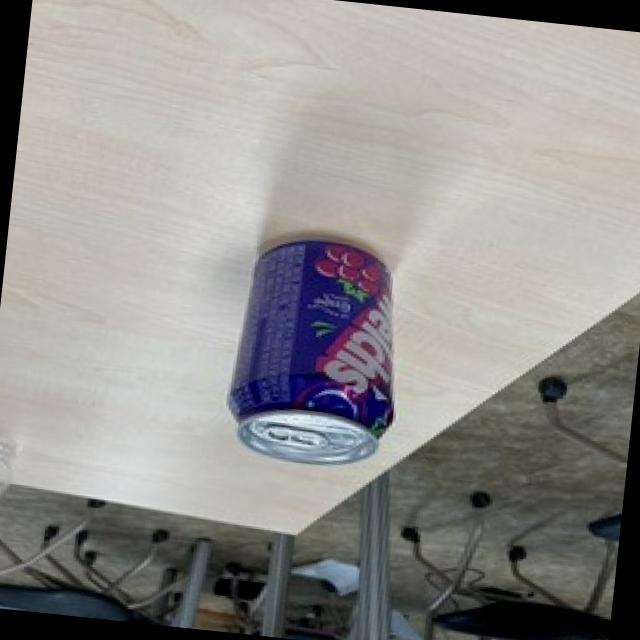can: (218, 221, 416, 478)
